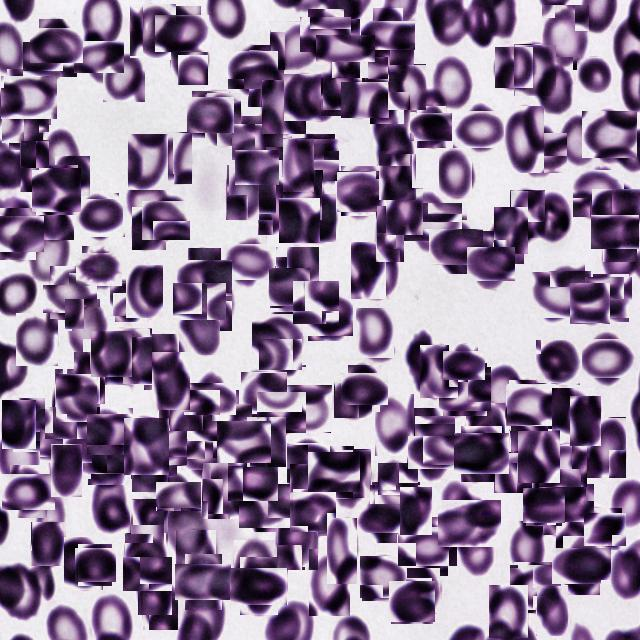red blood cell: (541, 4, 589, 70), (534, 267, 590, 322), (123, 174, 174, 230), (102, 328, 152, 385), (254, 313, 306, 367), (64, 298, 109, 360), (404, 195, 456, 248), (202, 462, 250, 519), (584, 108, 636, 160), (504, 106, 544, 173), (54, 368, 100, 426), (123, 417, 169, 475), (26, 223, 69, 285), (478, 363, 523, 422), (583, 417, 626, 478), (195, 397, 246, 448), (538, 479, 589, 530), (129, 3, 176, 58), (309, 553, 350, 616), (270, 21, 322, 70), (276, 510, 318, 570), (582, 334, 632, 384), (4, 72, 54, 122), (371, 483, 421, 533), (376, 394, 416, 456), (282, 383, 332, 432), (403, 522, 452, 572), (275, 246, 319, 301), (574, 170, 624, 218), (144, 333, 186, 390), (262, 80, 306, 134), (508, 521, 548, 580), (458, 105, 506, 154), (512, 563, 560, 612), (458, 429, 506, 478), (148, 132, 192, 185), (192, 273, 232, 331), (91, 474, 131, 532), (403, 412, 451, 460), (46, 269, 94, 317), (240, 482, 288, 530), (441, 366, 489, 414), (229, 454, 277, 502), (32, 166, 80, 214), (558, 542, 606, 590), (220, 418, 268, 466), (235, 562, 283, 610), (430, 56, 471, 112), (510, 414, 554, 466), (517, 430, 560, 483), (16, 314, 58, 368), (180, 558, 227, 606), (535, 57, 573, 116), (258, 176, 296, 235), (130, 499, 168, 558), (560, 114, 600, 170), (128, 134, 168, 190), (290, 136, 337, 183), (89, 411, 136, 458), (152, 352, 190, 410), (176, 530, 216, 585), (466, 403, 505, 459), (514, 44, 556, 96), (373, 92, 410, 151), (518, 130, 564, 177), (102, 52, 145, 102), (377, 462, 418, 514), (170, 29, 208, 85), (86, 436, 132, 482), (340, 168, 386, 214), (136, 425, 182, 471), (508, 382, 554, 428), (540, 442, 586, 488), (364, 72, 410, 118), (159, 10, 205, 56), (177, 278, 223, 324), (259, 390, 305, 436), (311, 450, 357, 496), (164, 501, 208, 549), (43, 132, 82, 186), (248, 49, 284, 107), (234, 540, 274, 592), (226, 240, 272, 285), (434, 224, 479, 270), (64, 537, 103, 590), (489, 585, 528, 638), (552, 388, 593, 438), (246, 416, 286, 467), (6, 469, 51, 514), (536, 339, 581, 384), (28, 36, 72, 82), (596, 209, 640, 255), (156, 388, 203, 431), (420, 345, 458, 398), (284, 170, 324, 220), (204, 92, 241, 146), (126, 266, 163, 320), (351, 242, 386, 299), (355, 307, 394, 358), (361, 555, 405, 600), (306, 294, 351, 338), (35, 23, 79, 68), (182, 254, 227, 298), (327, 518, 357, 584), (412, 431, 457, 475), (90, 330, 132, 377), (78, 196, 122, 240), (586, 276, 630, 320), (300, 75, 344, 119), (594, 186, 638, 230), (235, 120, 279, 164), (44, 424, 88, 468), (144, 198, 188, 242), (231, 48, 275, 92), (50, 401, 94, 445), (54, 376, 98, 420), (294, 280, 338, 324), (390, 579, 434, 623), (178, 309, 220, 355), (533, 193, 573, 241), (226, 164, 260, 220), (304, 13, 348, 56), (324, 27, 368, 70), (188, 378, 232, 421), (291, 491, 335, 534), (280, 198, 322, 243), (430, 208, 467, 259), (494, 452, 539, 493), (378, 126, 412, 180), (298, 194, 336, 242), (8, 404, 50, 447), (142, 580, 178, 630), (38, 190, 74, 240), (385, 188, 423, 235), (378, 153, 416, 200), (335, 449, 371, 498), (243, 370, 285, 412), (288, 442, 330, 484), (370, 40, 412, 82), (190, 94, 232, 136), (78, 36, 120, 78), (367, 14, 409, 56), (125, 533, 167, 575), (126, 552, 168, 594), (471, 243, 512, 286), (50, 443, 82, 498), (323, 65, 362, 110), (290, 464, 325, 514), (388, 64, 426, 110), (284, 74, 321, 121), (363, 249, 400, 296), (282, 138, 314, 192), (341, 82, 389, 118), (510, 190, 545, 238), (0, 212, 39, 255), (2, 400, 36, 449), (138, 566, 172, 615), (5, 106, 46, 146), (570, 283, 610, 324), (494, 46, 533, 88), (556, 522, 590, 570), (536, 585, 568, 636), (132, 447, 168, 492), (74, 352, 105, 404), (112, 279, 152, 319), (185, 434, 225, 474), (481, 228, 521, 268), (236, 148, 276, 188), (344, 368, 384, 408), (269, 267, 309, 307), (362, 498, 402, 538), (438, 150, 472, 197), (494, 207, 528, 254), (334, 376, 372, 418), (376, 205, 404, 262), (30, 521, 65, 566), (408, 568, 442, 614), (570, 396, 601, 446), (400, 487, 432, 535), (20, 140, 49, 192), (76, 546, 115, 584), (525, 486, 564, 524), (132, 207, 166, 250), (586, 510, 624, 548), (262, 336, 300, 374), (160, 478, 198, 515), (55, 156, 90, 196), (576, 57, 612, 93), (446, 348, 482, 383), (414, 110, 449, 144), (418, 89, 444, 133)
ring: (442, 496, 498, 552), (79, 249, 119, 289)
